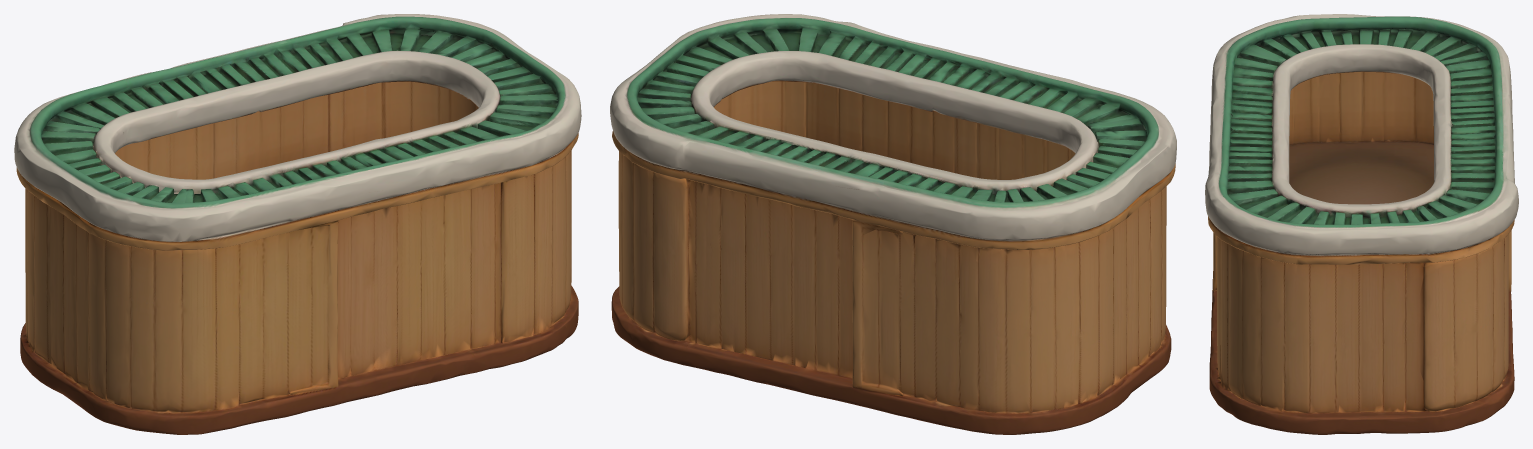
File: restaurant-counter.glb
The picture shows the model from 3 angles, left to right: view 1: azimuth 30°, elevation 25°; view 2: azimuth 150°, elevation 25°; view 3: azimuth 270°, elevation 25°; orthographic projection. The views are drawn at different scales.
Parts seen in each view (by area): view 1: tripo_node_a2187957-ec8e-482c-bc04-3e8cb608c76e; view 2: tripo_node_a2187957-ec8e-482c-bc04-3e8cb608c76e; view 3: tripo_node_a2187957-ec8e-482c-bc04-3e8cb608c76e.
Part boxes in pixels (left/top/right/bottom): tripo_node_a2187957-ec8e-482c-bc04-3e8cb608c76e: left=14, top=14, right=581, bottom=434; tripo_node_a2187957-ec8e-482c-bc04-3e8cb608c76e: left=610, top=14, right=1176, bottom=434; tripo_node_a2187957-ec8e-482c-bc04-3e8cb608c76e: left=1205, top=14, right=1518, bottom=434.
Size of the model in its own units: 1 by 0.4401 by 0.6037.
Materials: 1 (1 with a texture image).
